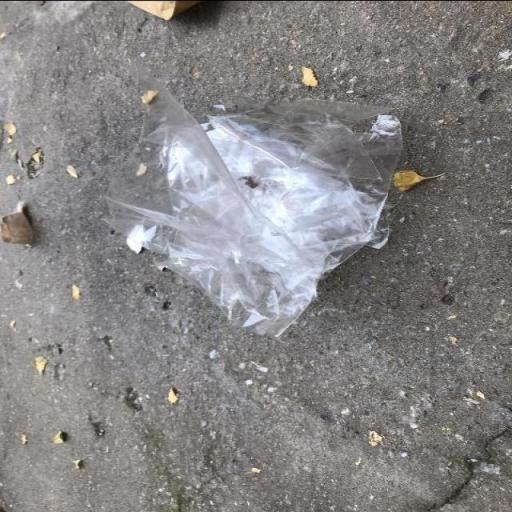plastic-bag: (97, 67, 408, 342)
